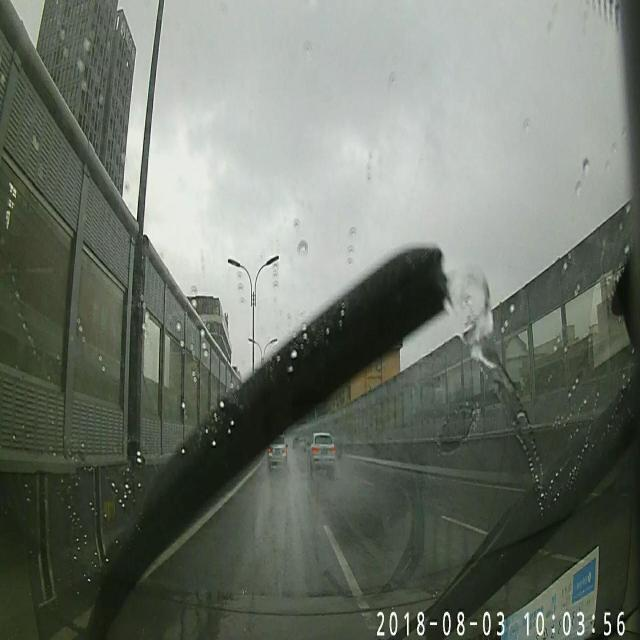car: (308, 432, 336, 477), (266, 432, 288, 468)
